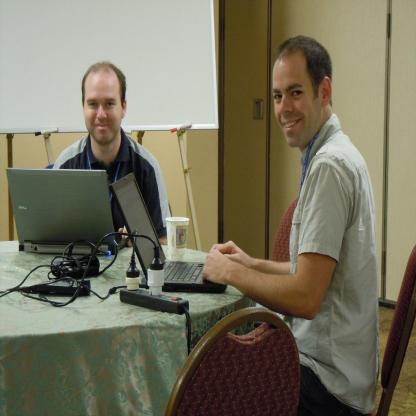board: (109, 169, 227, 292), (0, 163, 108, 265)
